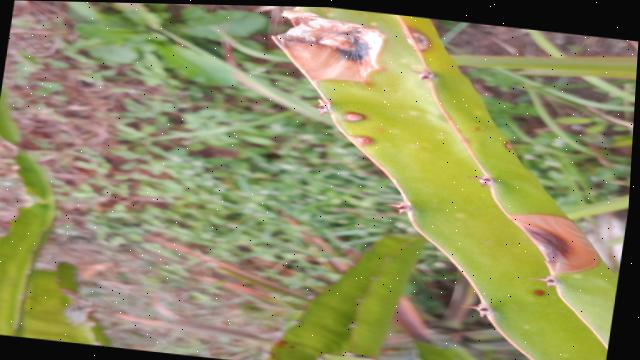stemcanker: (345, 134, 381, 151), (337, 110, 374, 126)
